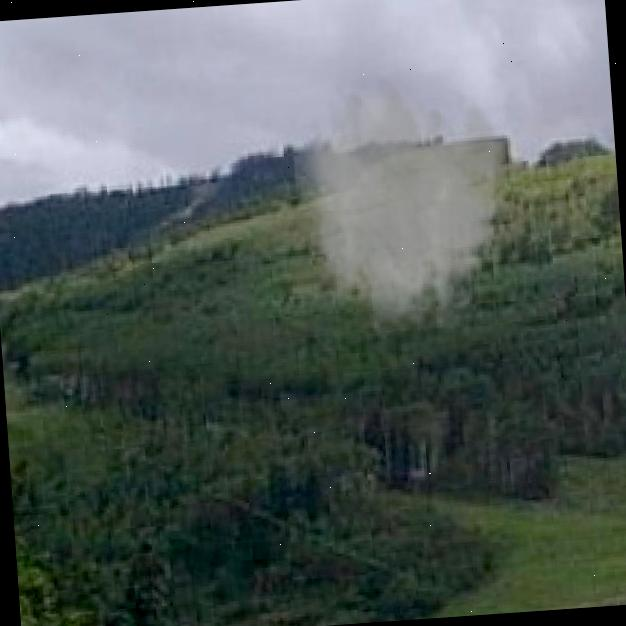smoke: (289, 63, 532, 346)
